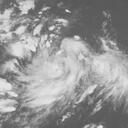cyclone: (28, 37, 127, 109)
